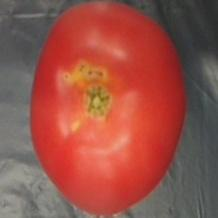unripe: (25, 0, 189, 216)
